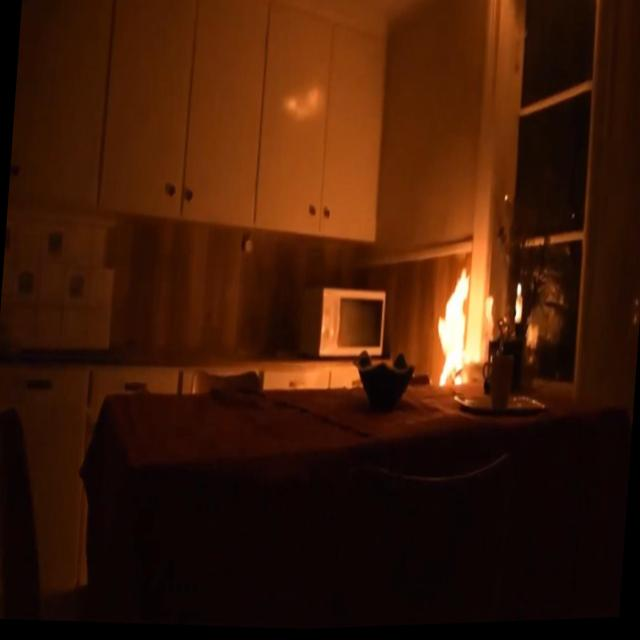fire: (426, 262, 478, 400), (516, 285, 522, 301)
